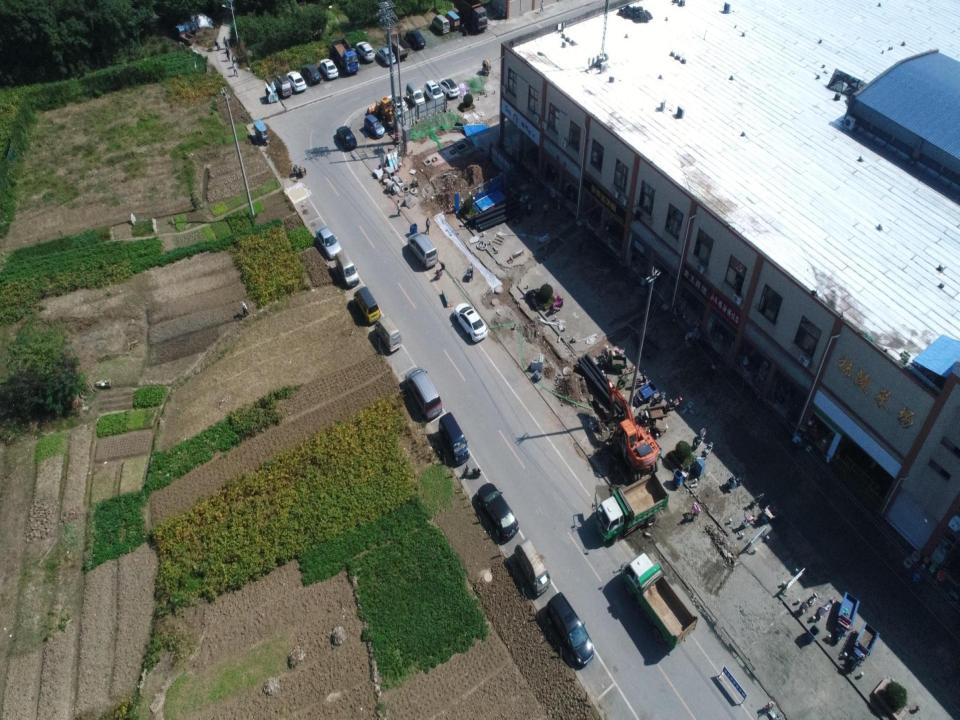car: (477, 483, 519, 542), (453, 302, 488, 343), (315, 224, 342, 260), (387, 93, 410, 121), (300, 62, 322, 86), (438, 76, 460, 99), (336, 126, 357, 150), (364, 114, 385, 138), (286, 70, 307, 92), (424, 79, 444, 102), (377, 43, 396, 67), (405, 29, 426, 50), (356, 41, 376, 62), (320, 58, 338, 79)
truck: (622, 552, 698, 650), (594, 474, 668, 546), (331, 38, 359, 76), (458, 0, 488, 32), (386, 30, 410, 60)
van: (546, 591, 594, 667), (514, 537, 551, 597), (404, 366, 442, 419), (438, 412, 470, 464), (407, 232, 438, 268), (374, 314, 402, 352), (354, 286, 381, 324), (335, 248, 359, 288), (406, 81, 425, 107), (274, 73, 292, 98), (432, 14, 450, 35)
